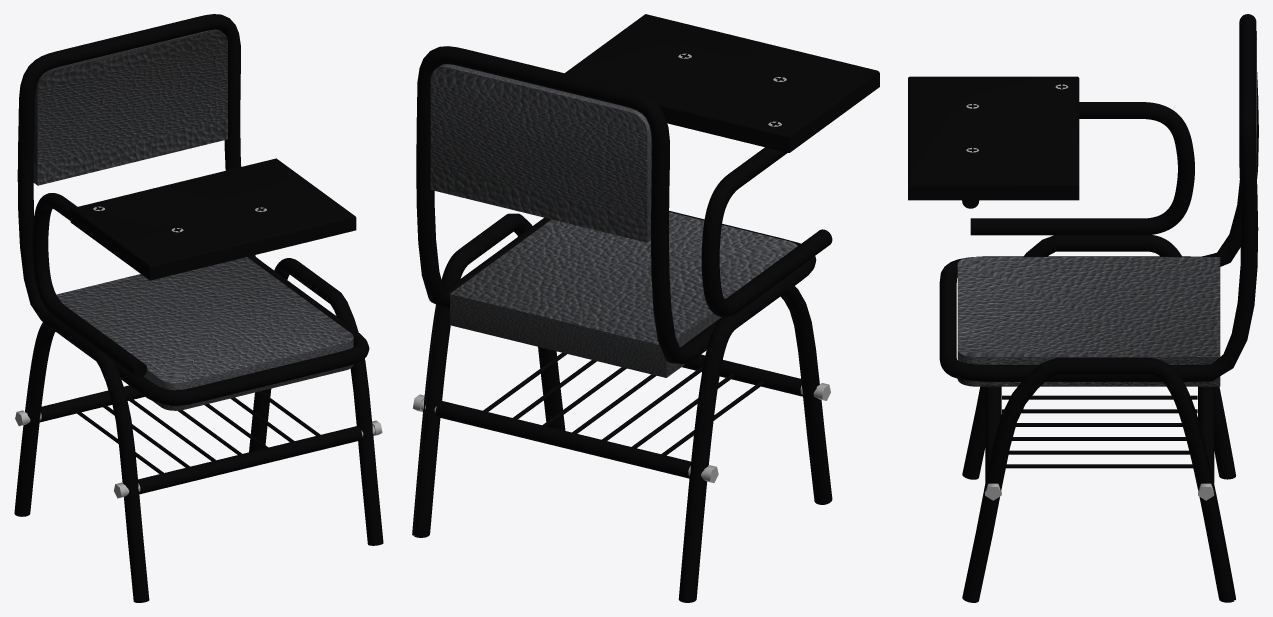
Rendered from silla_pupitre_disgraf_8b.glb.
The picture shows the model from 3 angles, left to right: view 1: azimuth 30°, elevation 25°; view 2: azimuth 150°, elevation 25°; view 3: azimuth 270°, elevation 25°; orthographic projection. The views are drawn at different scales.
Parts seen in each view (by area): view 1: Object_4, Object_3, Object_9, Object_2, Object_6, Object_7, Object_8, Object_5; view 2: Object_4, Object_3, Object_9, Object_6, Object_2, Object_7, Object_8, Object_5; view 3: Object_4, Object_9, Object_6, Object_2, Object_7, Object_8, Object_5.
Part boxes in pixels (bbox=[...]): Object_4: bbox=[56, 257, 353, 410]; Object_3: bbox=[33, 29, 227, 185]; Object_9: bbox=[39, 158, 355, 494]; Object_2: bbox=[17, 14, 369, 405]; Object_6: bbox=[14, 258, 383, 602]; Object_7: bbox=[41, 205, 362, 494]; Object_8: bbox=[32, 193, 147, 377]; Object_5: bbox=[15, 206, 382, 498]; Object_4: bbox=[450, 212, 797, 377]; Object_3: bbox=[430, 64, 652, 242]; Object_9: bbox=[565, 14, 878, 478]; Object_6: bbox=[412, 213, 832, 602]; Object_2: bbox=[416, 46, 816, 364]; Object_7: bbox=[435, 52, 879, 602]; Object_8: bbox=[701, 147, 832, 317]; Object_5: bbox=[413, 53, 830, 483]; Object_4: bbox=[957, 257, 1220, 386]; Object_9: bbox=[908, 76, 1214, 483]; Object_6: bbox=[962, 235, 1235, 602]; Object_2: bbox=[939, 14, 1258, 381]; Object_7: bbox=[908, 78, 1214, 482]; Object_8: bbox=[962, 102, 1194, 235]; Object_5: bbox=[966, 84, 1214, 500].
Size of the model in its own units: 2.4 by 3.81 by 2.52.
3 materials, 1 textured.
